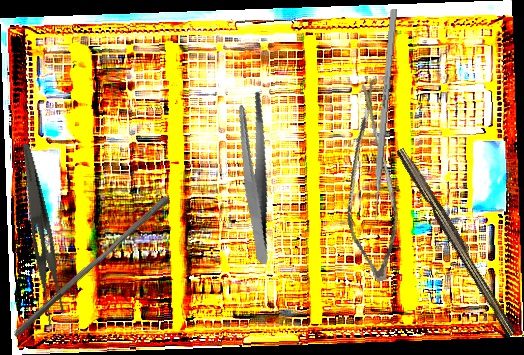Dressing Forceps: (210, 89, 300, 265), (2, 142, 75, 328)
Micro Scissor: (313, 77, 424, 286)
Pusher: (11, 188, 173, 345), (369, 8, 398, 238)
Scalpel Handle: (392, 144, 523, 339)
